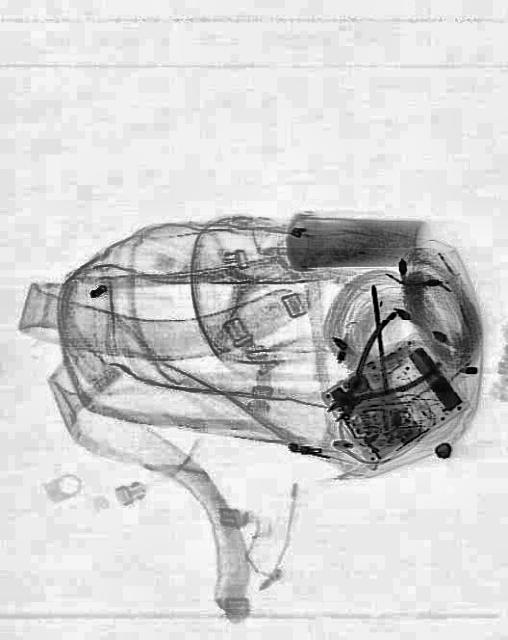Pliers: (308, 300, 444, 448)
